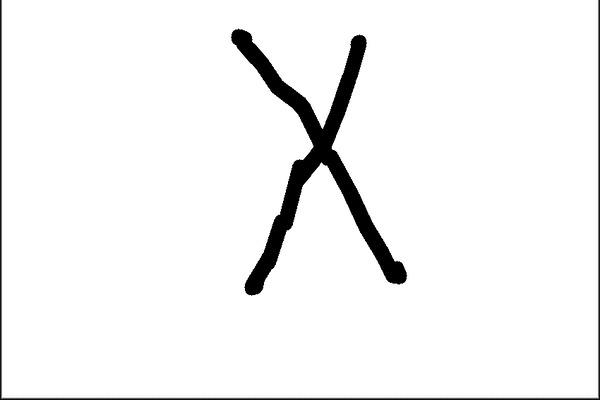X: (197, 22, 458, 330)
